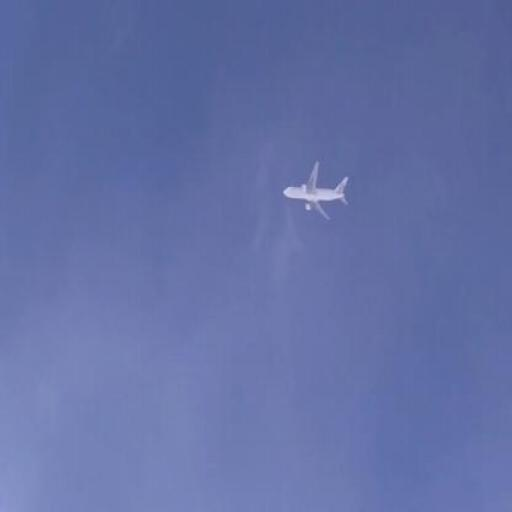aircraft: (283, 162, 351, 220)
